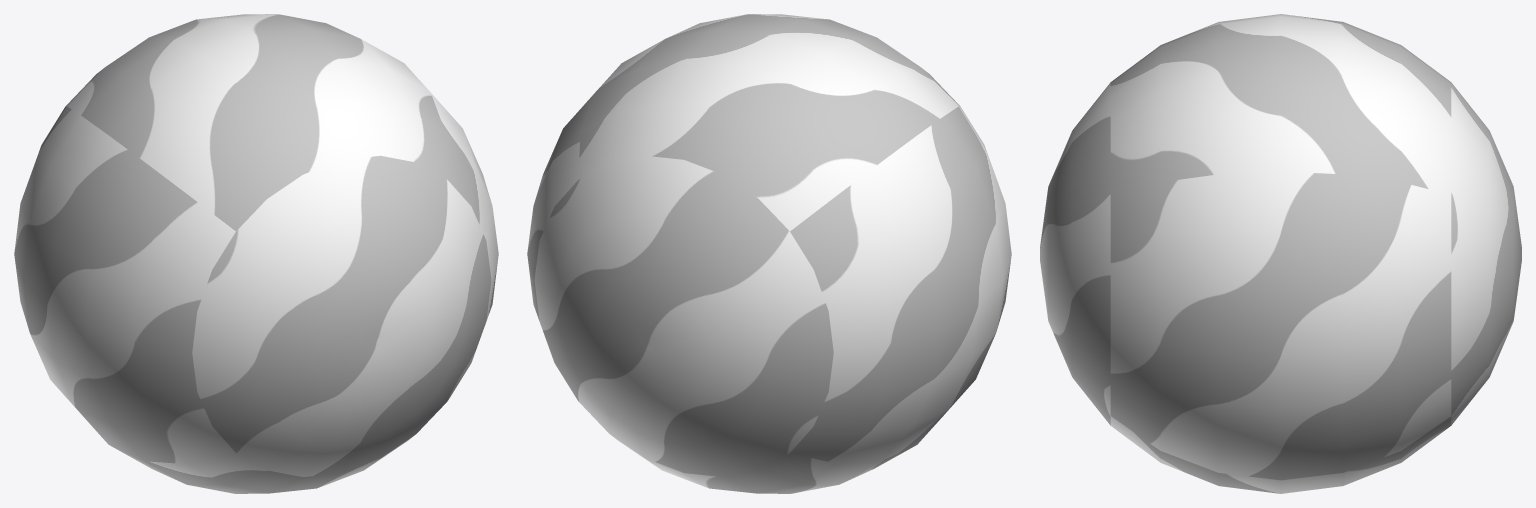
Rendered from Ball.fbx.
The picture shows the model from 3 angles, left to right: view 1: azimuth 30°, elevation 25°; view 2: azimuth 150°, elevation 25°; view 3: azimuth 270°, elevation 25°; orthographic projection.
Visible parts, largest first — view 1: mergedBlocks; view 2: mergedBlocks; view 3: mergedBlocks.
Part boxes in pixels (x1,y1,x2,y2): mergedBlocks: (14, 14, 498, 493); mergedBlocks: (527, 14, 1011, 493); mergedBlocks: (1040, 14, 1521, 493).
Bounding box in the file's own units: 10 × 10 × 10.
1 material, 1 textured.
